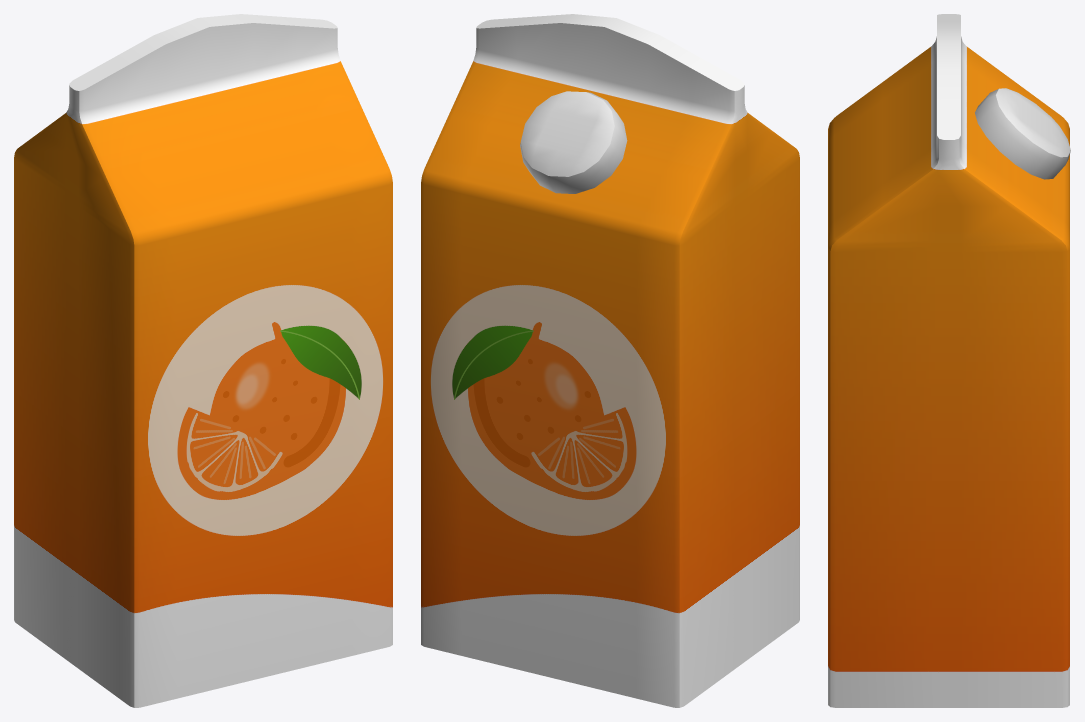
File: Orange Juice.fbx
3 views of the same model, side by side, from view 1: azimuth 30°, elevation 25°; view 2: azimuth 150°, elevation 25°; view 3: azimuth 270°, elevation 25° (orthographic).
Visible parts, largest first — view 1: Orange Juice; view 2: Orange Juice; view 3: Orange Juice.
Part boxes in pixels (x1,y1,x2,y2): Orange Juice: (14, 14, 392, 707); Orange Juice: (421, 14, 799, 707); Orange Juice: (828, 14, 1070, 707).
Bounding box in the file's own units: 9.4 × 20.9 × 7.65.
